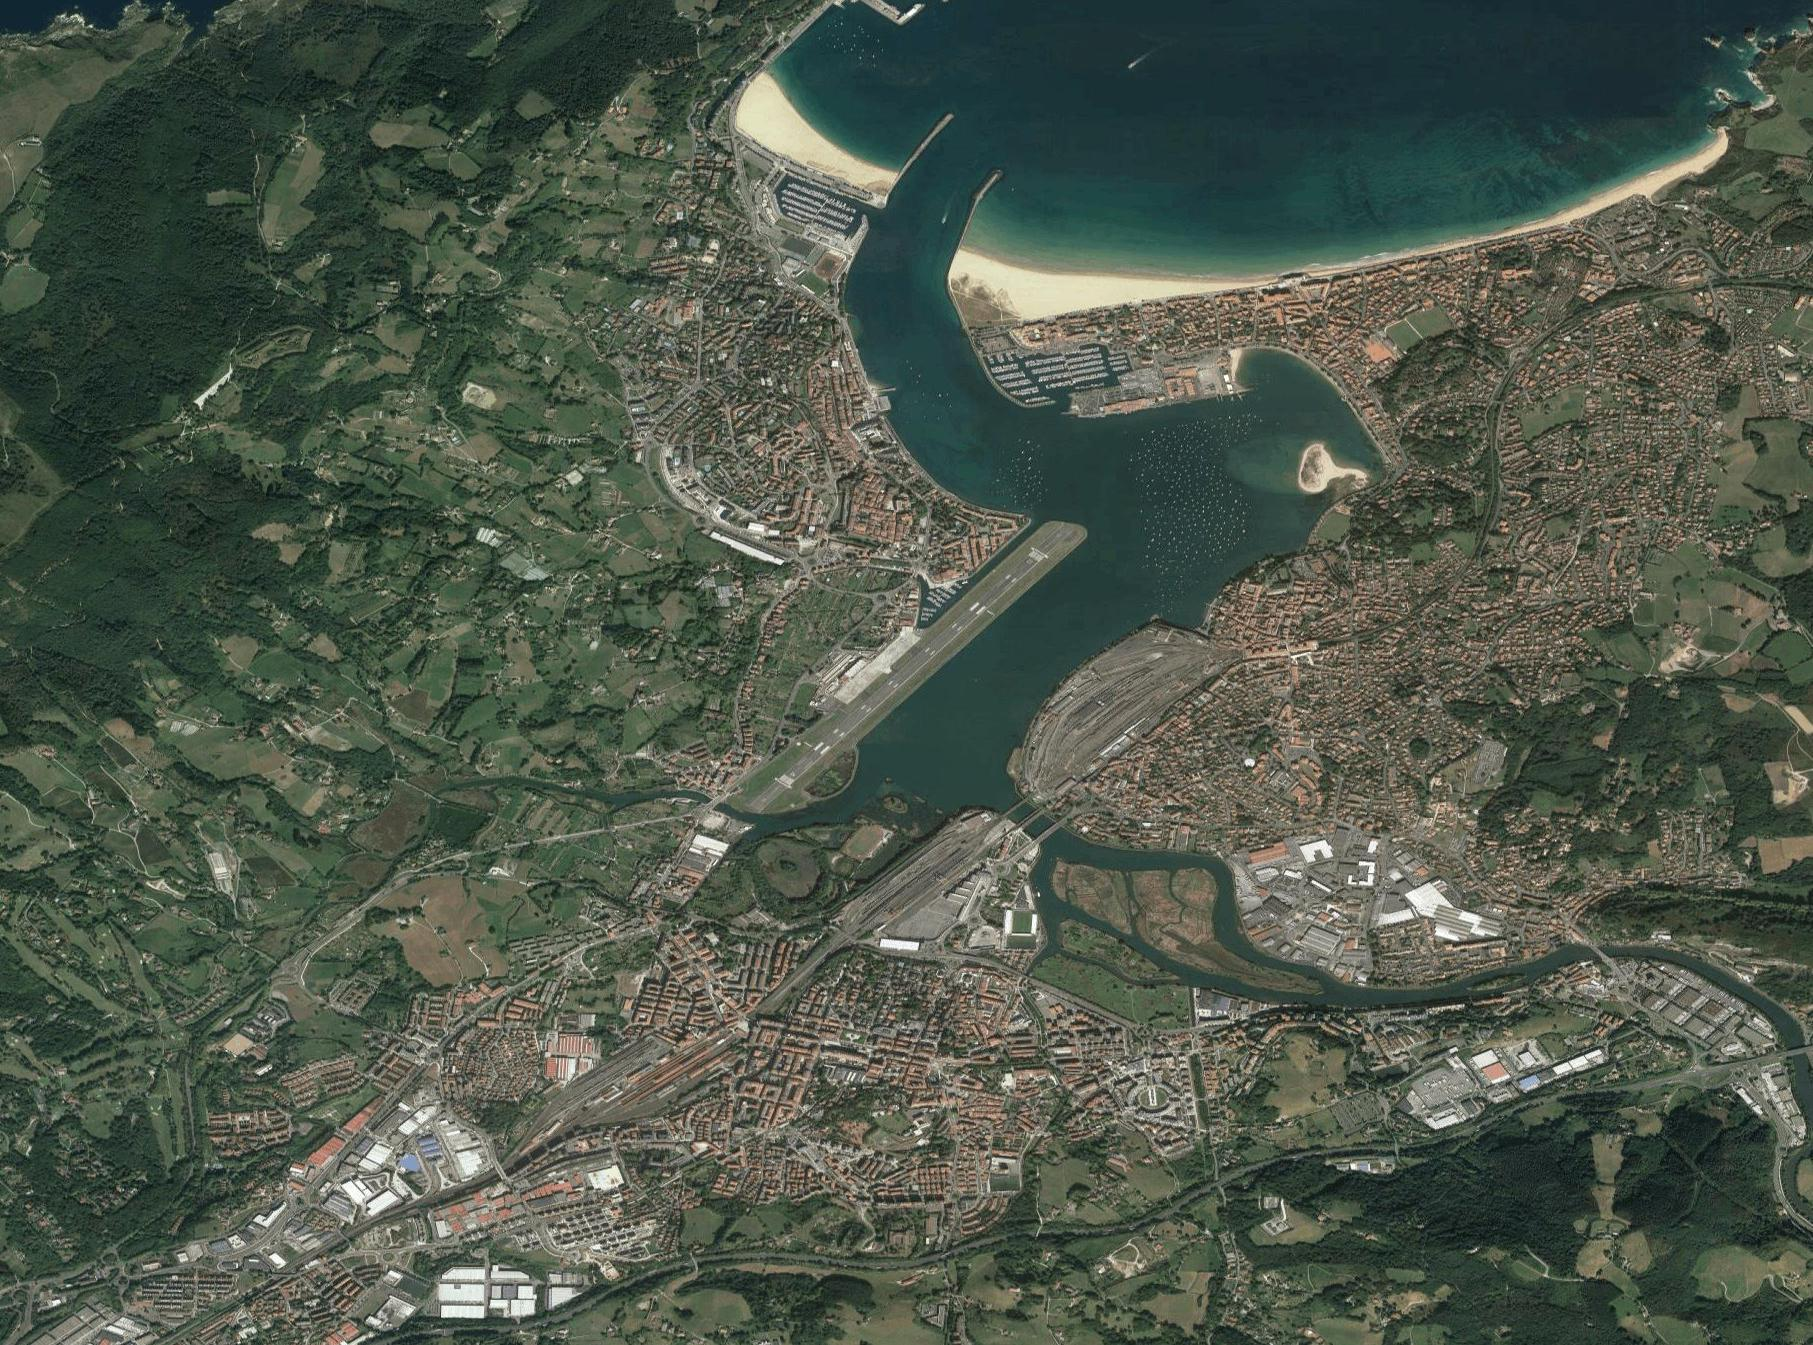airport: (743, 517, 1081, 815)
train_station: (1027, 639, 1212, 812), (837, 819, 1008, 947)
